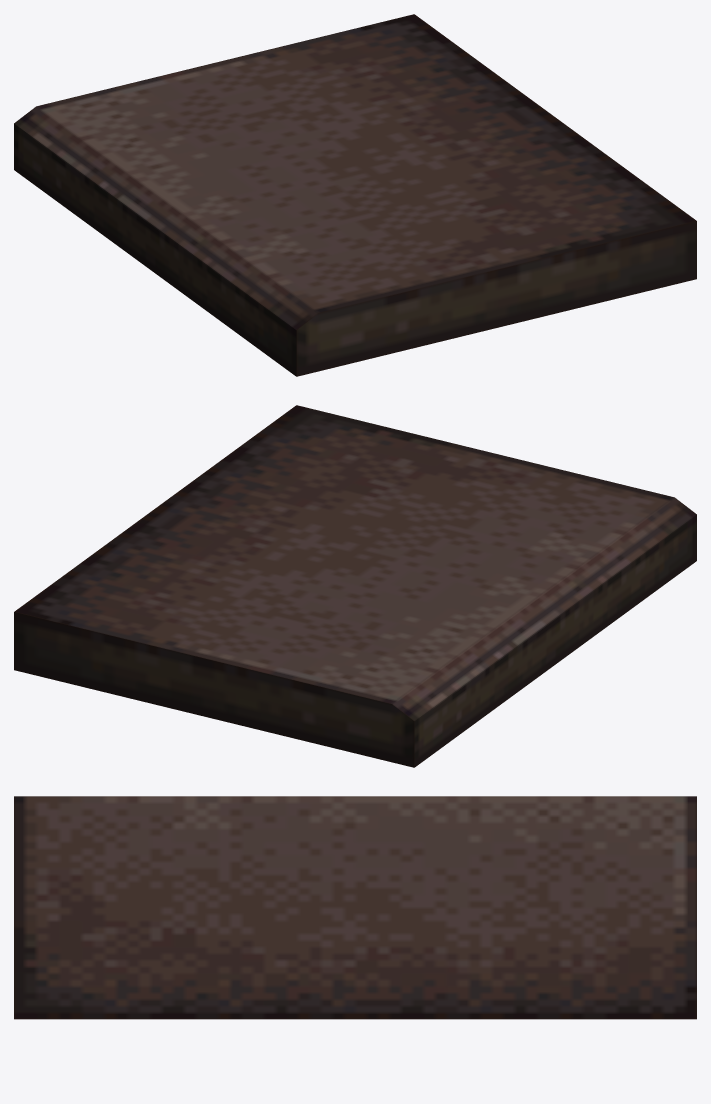
Rendered from EnvBdgMD_WoodHouse_A_Indoor_Entrance_A.FBX.
The picture shows the model from 3 angles, top to bottom: view 1: azimuth 30°, elevation 25°; view 2: azimuth 150°, elevation 25°; view 3: azimuth 270°, elevation 25°; orthographic projection. The views are drawn at different scales.
Parts seen in each view (by area): view 1: EnvBdgMD_WoodHouse_A_Indoor_Entrance_A; view 2: EnvBdgMD_WoodHouse_A_Indoor_Entrance_A; view 3: EnvBdgMD_WoodHouse_A_Indoor_Entrance_A.
Part boxes in pixels (x1,y1,x2,y2): EnvBdgMD_WoodHouse_A_Indoor_Entrance_A: [14, 14, 696, 376]; EnvBdgMD_WoodHouse_A_Indoor_Entrance_A: [14, 405, 696, 767]; EnvBdgMD_WoodHouse_A_Indoor_Entrance_A: [14, 796, 696, 1019].
Bounding box in the file's own units: 180 × 25 × 220.
Materials: 1 (1 with a texture image).
